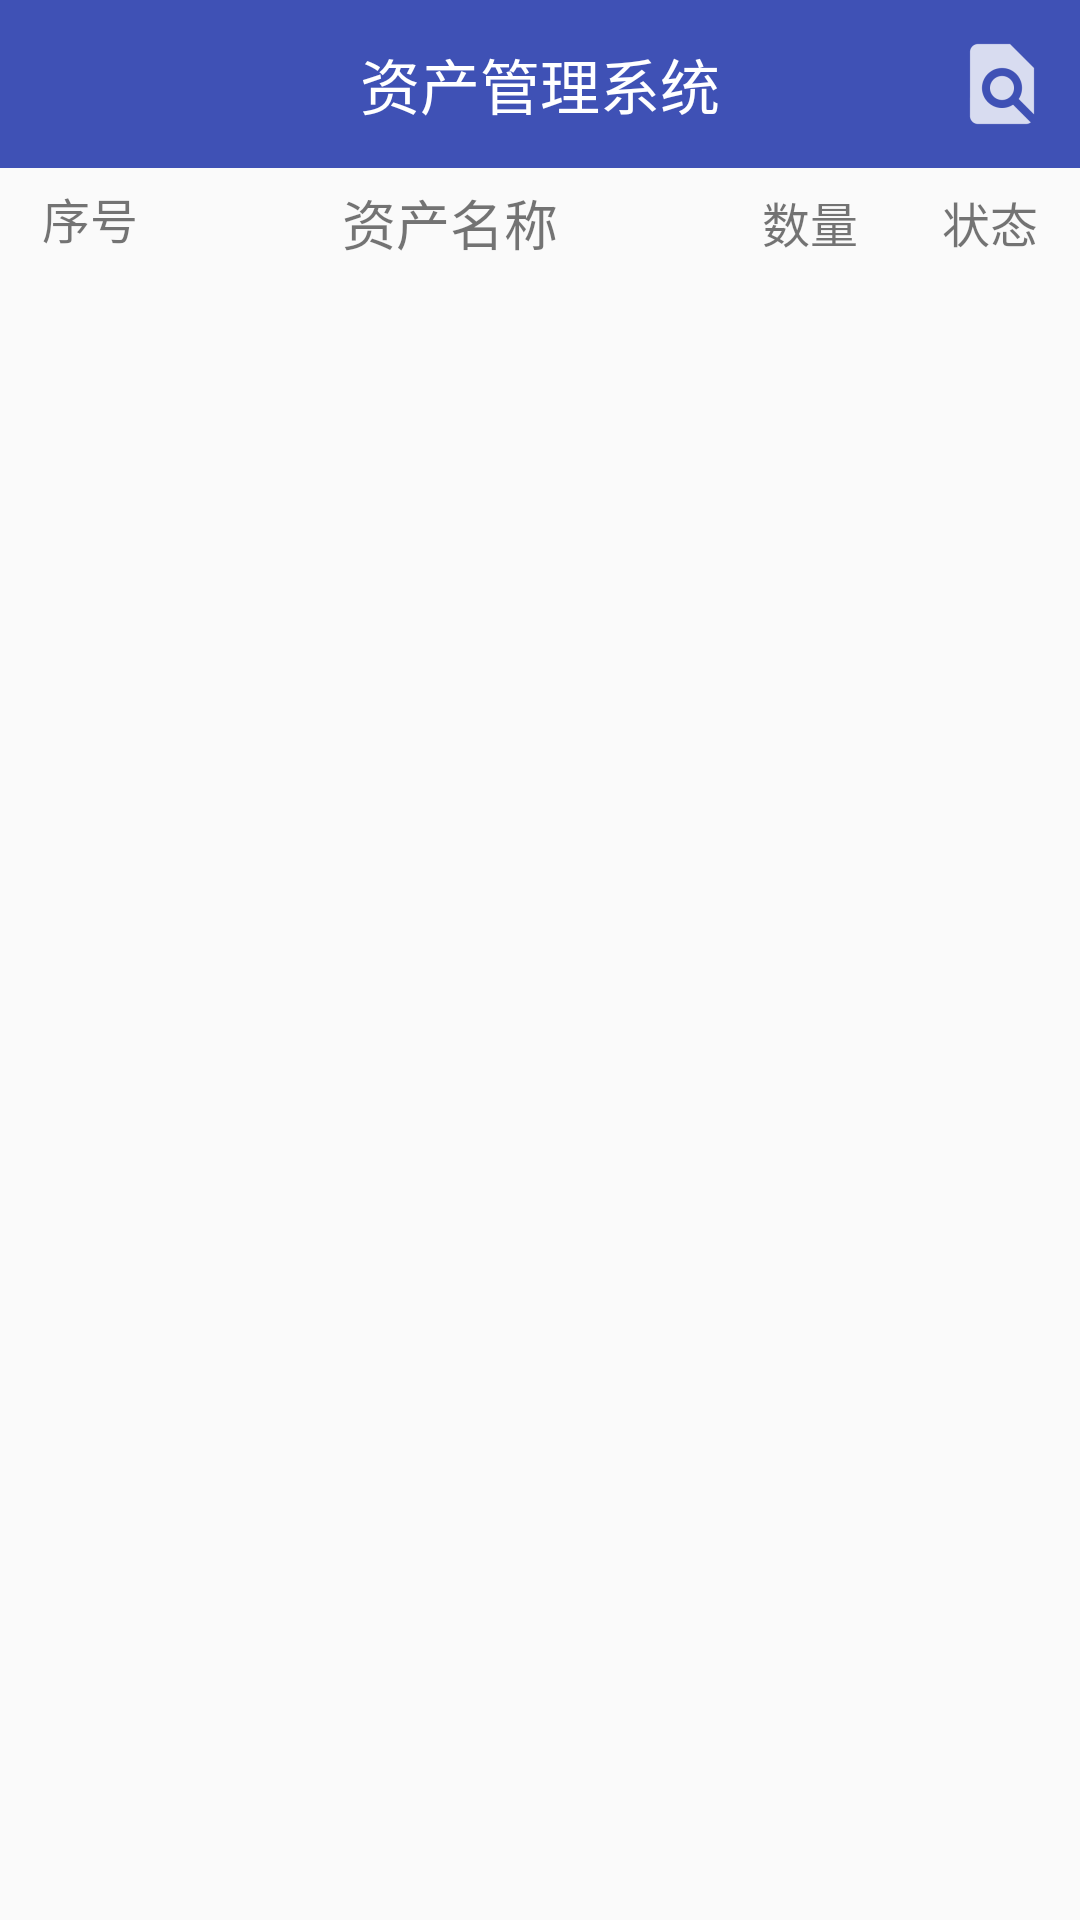

Icon bounding boxes for this 1080x1920 phone screenshot, format (left=x1, top=y1, right=x2, bottom=y2):
search db: (left=970, top=44, right=1034, bottom=124)
